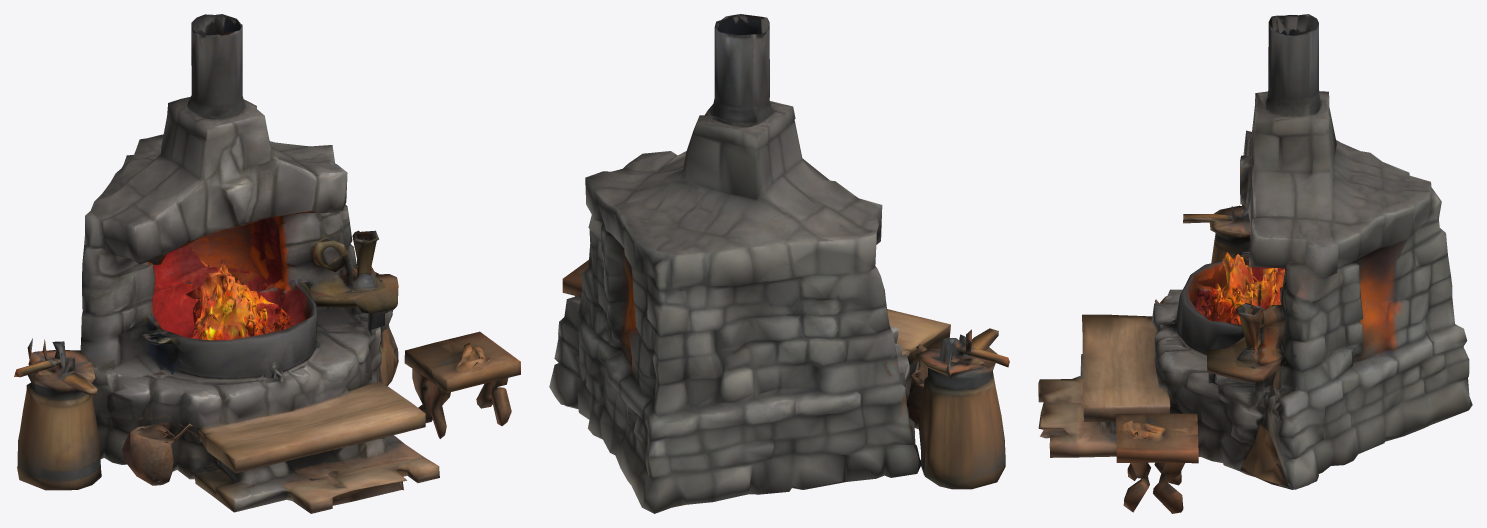
Rendered from simple_forge_for_forg_0712120304_texture.fbx.
3 renders of one model, left to right at view 1: azimuth 30°, elevation 25°; view 2: azimuth 150°, elevation 25°; view 3: azimuth 270°, elevation 25°, orthographic. The views are drawn at different scales.
Visible parts, largest first — view 1: Mesh_0.003; view 2: Mesh_0.003; view 3: Mesh_0.003.
Part boxes in pixels (x1=…): Mesh_0.003: x1=14, y1=14, x2=520, y2=513; Mesh_0.003: x1=549, y1=14, x2=1009, y2=513; Mesh_0.003: x1=1038, y1=14, x2=1472, y2=513.
Bounding box in the file's own units: 192 × 164 × 165.
Materials: 1 (1 with a texture image).
